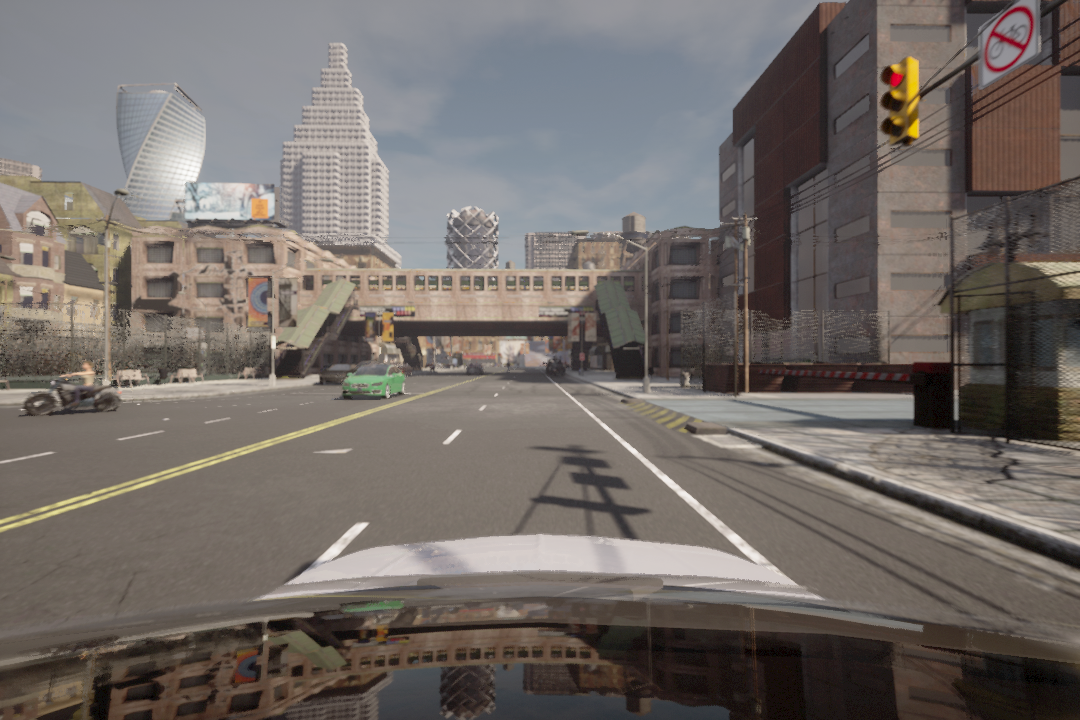TrafficLight: (874, 55, 927, 144)
TrafficSign: (978, 1, 1040, 77)
